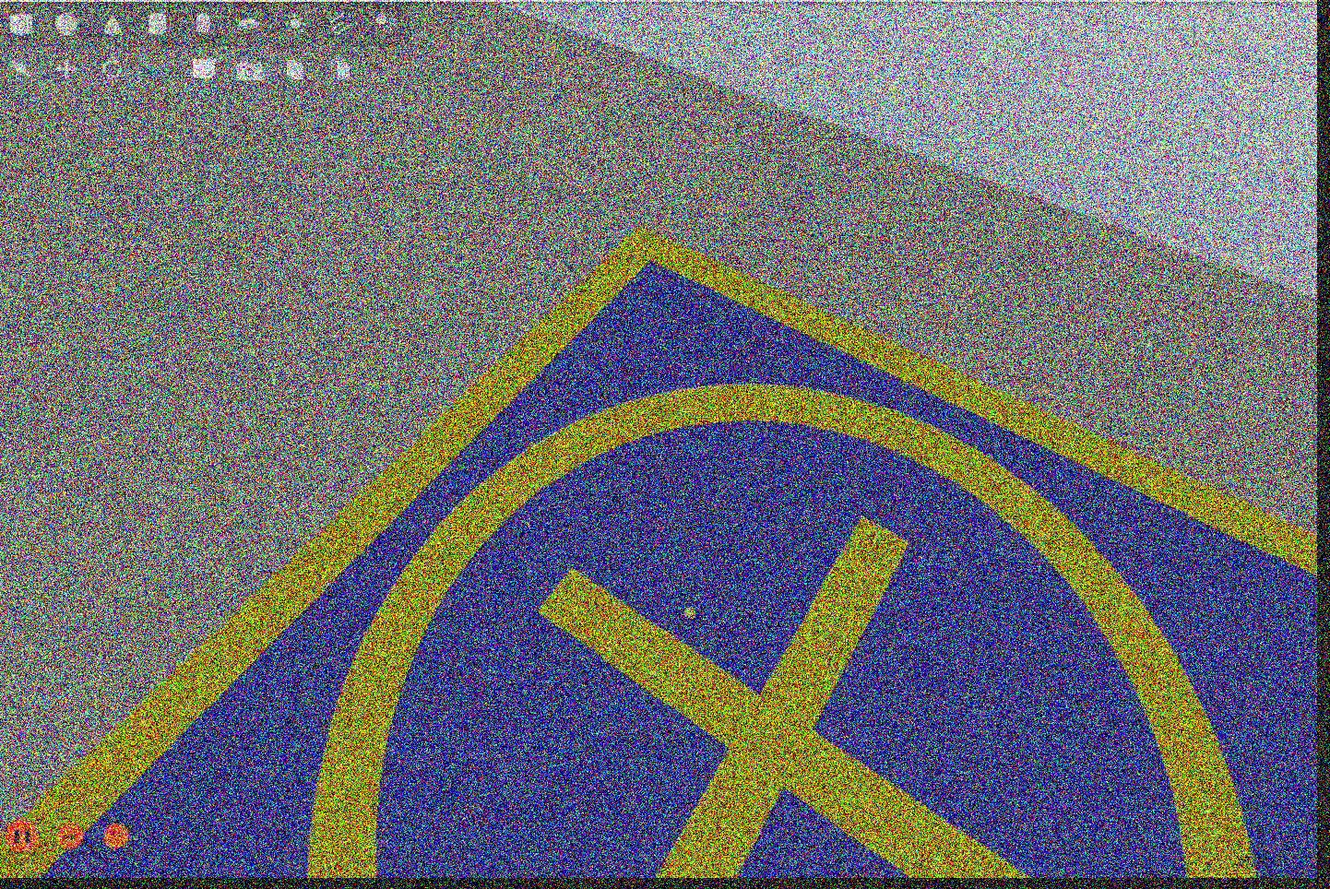small_base: (1, 225, 1319, 879)
